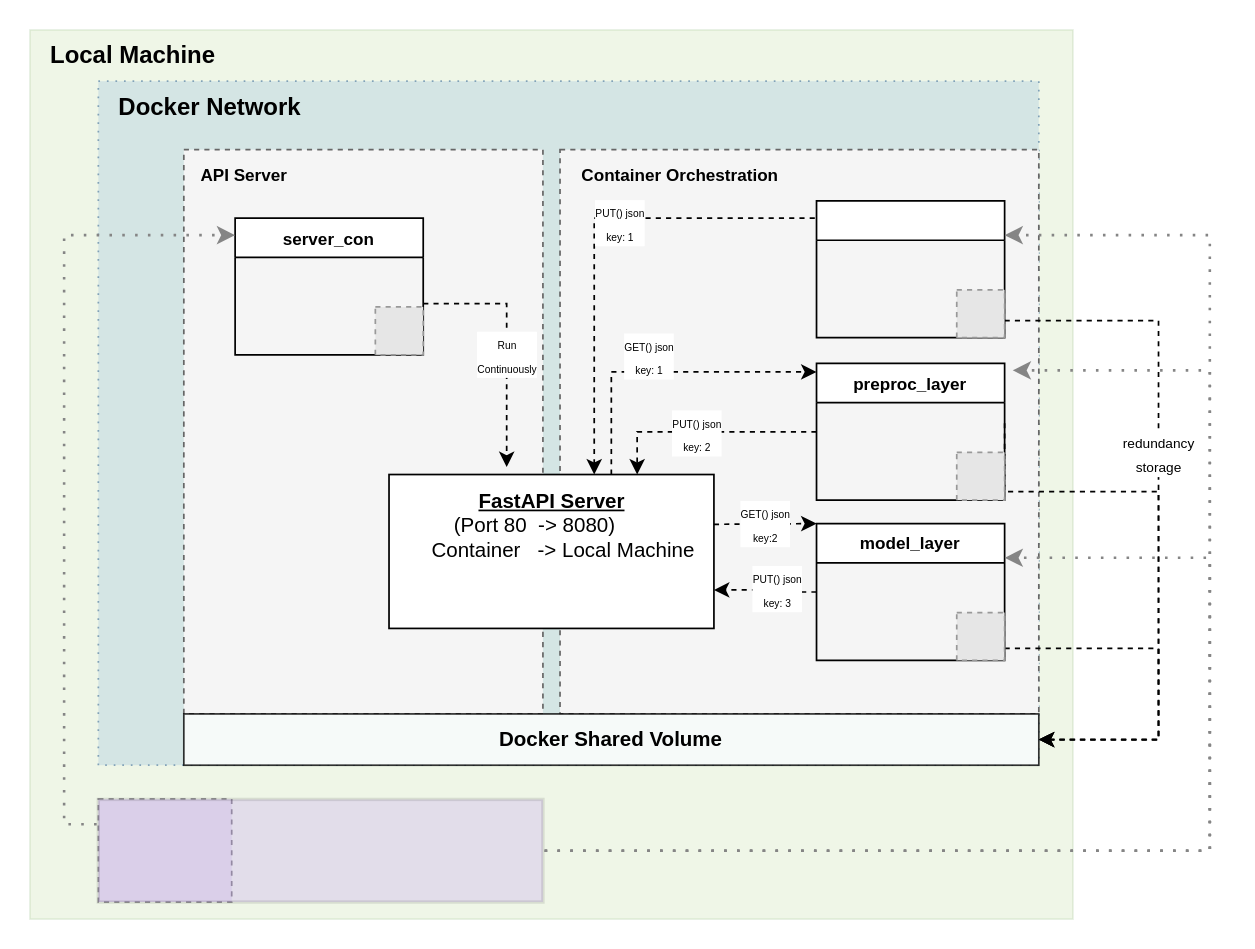
This 1255x949 diagram has some shape labels left out. Grey dashed boxes stand in for pictures. The box of each missing label's shape, as (x1, y1, x2, y2) in pixels:
Docker Compose: (96, 797, 544, 903)
ingestion_layer: (815, 199, 1005, 338)
